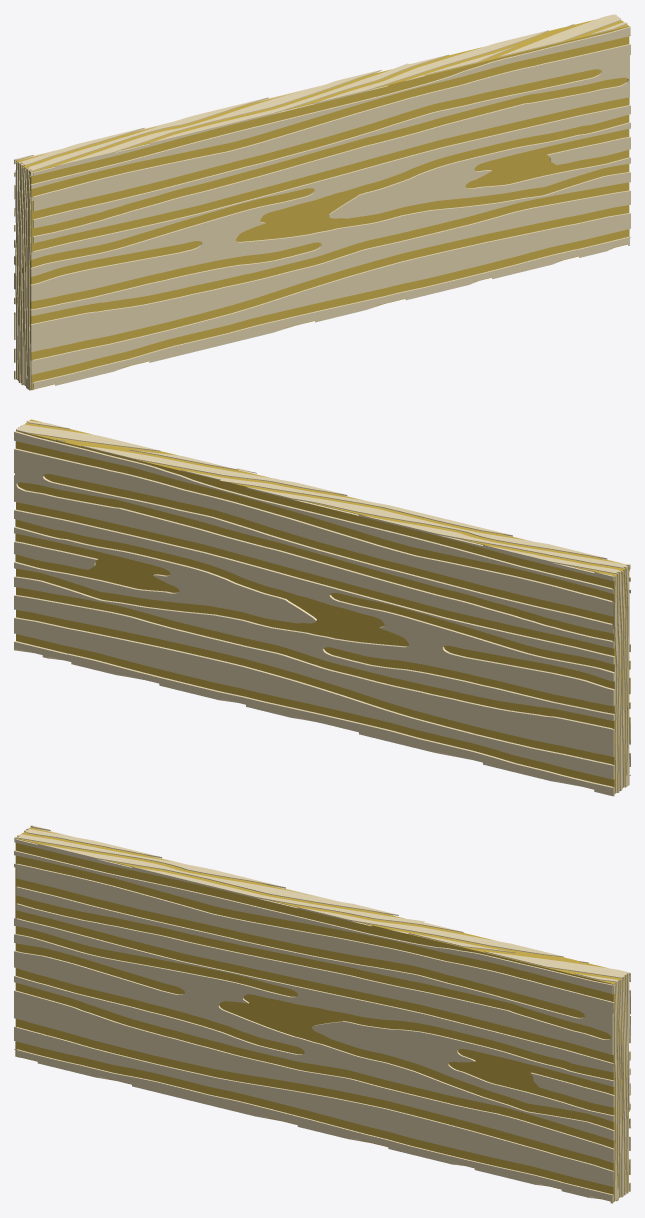
The model's file is oak_wood_plank.glb.
3 views of the same model, one above another, from view 1: azimuth 30°, elevation 25°; view 2: azimuth 150°, elevation 25°; view 3: azimuth 330°, elevation 25° (orthographic).
Parts seen in each view (by area): view 1: Object_3, Object_2; view 2: Object_3, Object_2; view 3: Object_3, Object_2.
Boxes of the visible parts, x1=… form: Object_3: x1=14, y1=14, x2=630, y2=390; Object_2: x1=16, y1=20, x2=629, y2=389; Object_3: x1=14, y1=420, x2=630, y2=796; Object_2: x1=16, y1=419, x2=629, y2=793; Object_3: x1=14, y1=825, x2=630, y2=1203; Object_2: x1=15, y1=827, x2=628, y2=1202.
Bounding box in the file's own units: 80 × 28 × 4.
